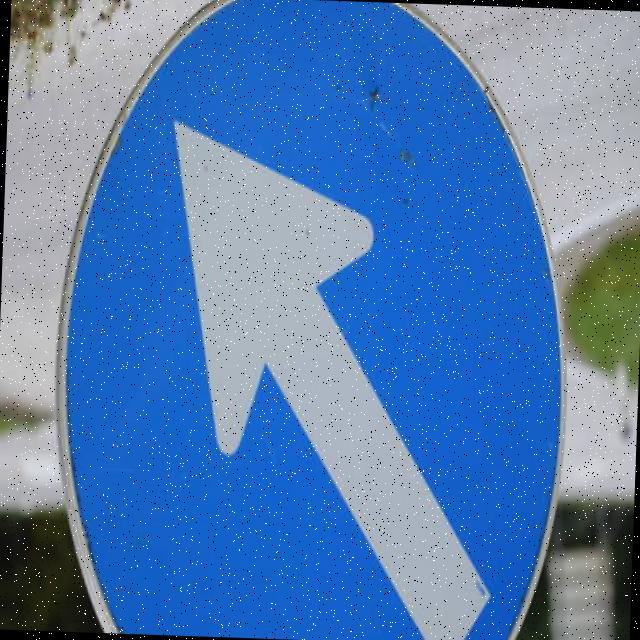compulsory_keep_right: (38, 0, 585, 640)
